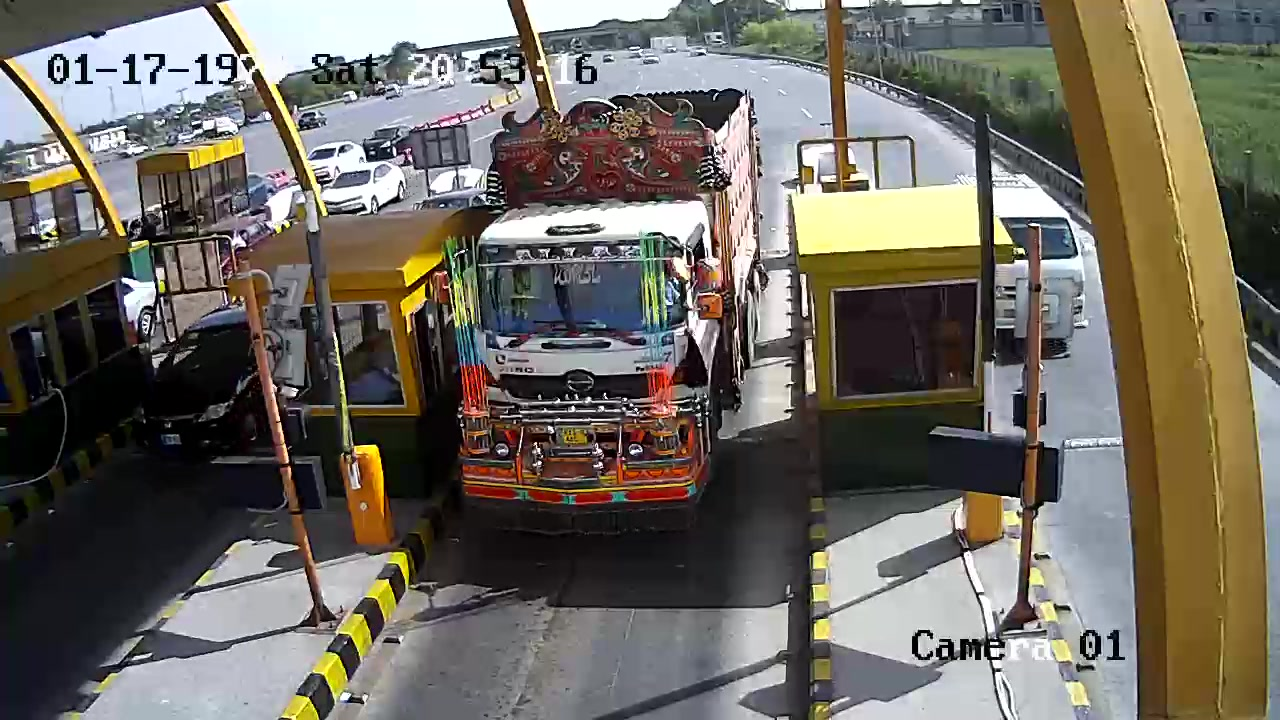F5: (460, 86, 760, 522)
